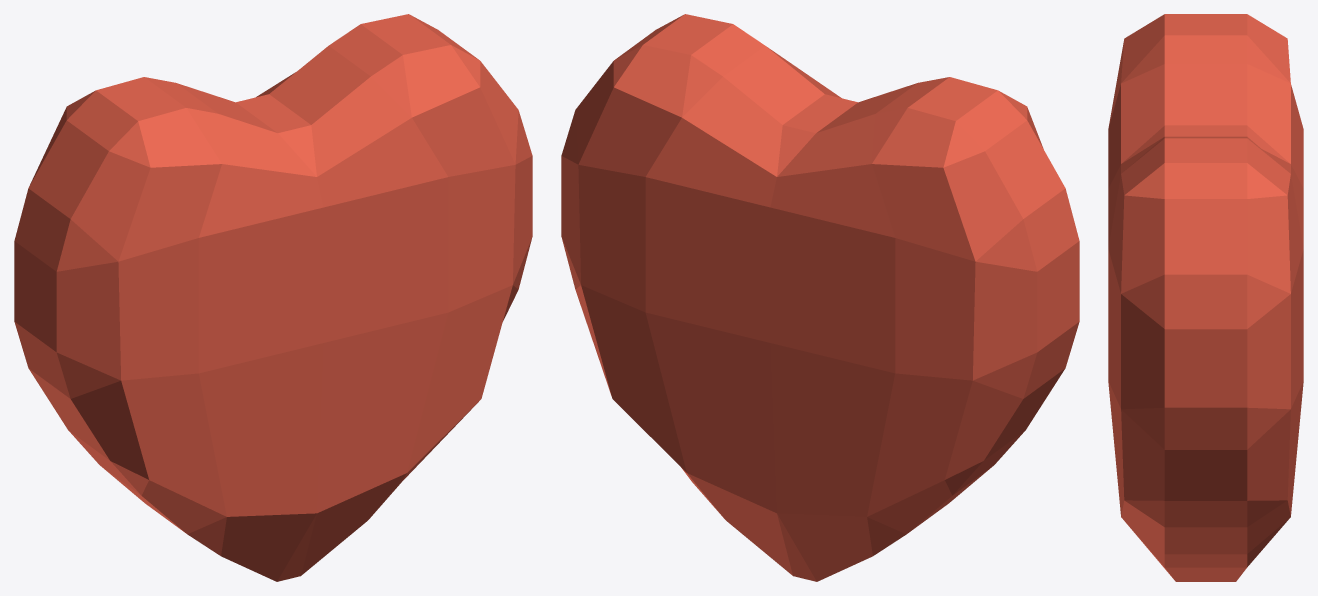
Rendered from redheart.fbx.
3 renders of one model, left to right at view 1: azimuth 30°, elevation 25°; view 2: azimuth 150°, elevation 25°; view 3: azimuth 270°, elevation 25°, orthographic. The views are drawn at different scales.
Visible parts, largest first — view 1: Cube; view 2: Cube; view 3: Cube.
Part boxes in pixels (x1,y1,x2,y2): Cube: (14,14,532,581); Cube: (561,14,1079,581); Cube: (1108,14,1303,581).
Bounding box in the file's own units: 267 × 269 × 97.35.
